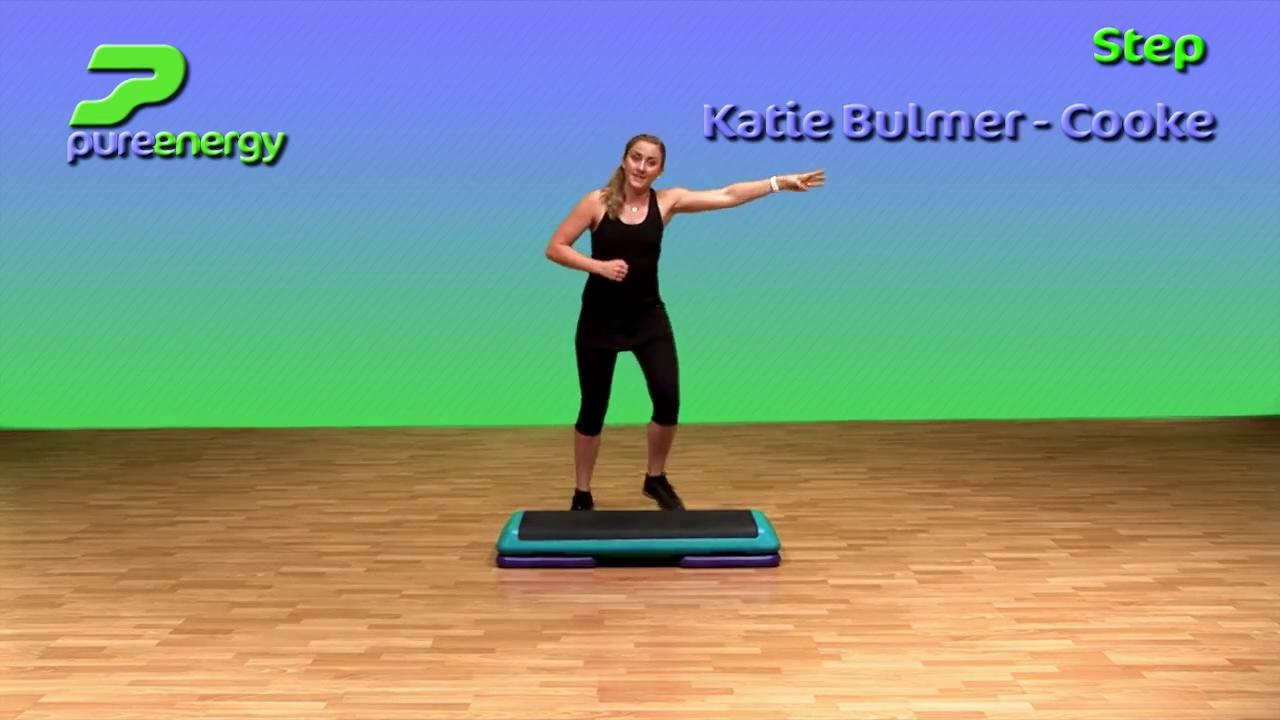victim: (541, 128, 833, 520)
